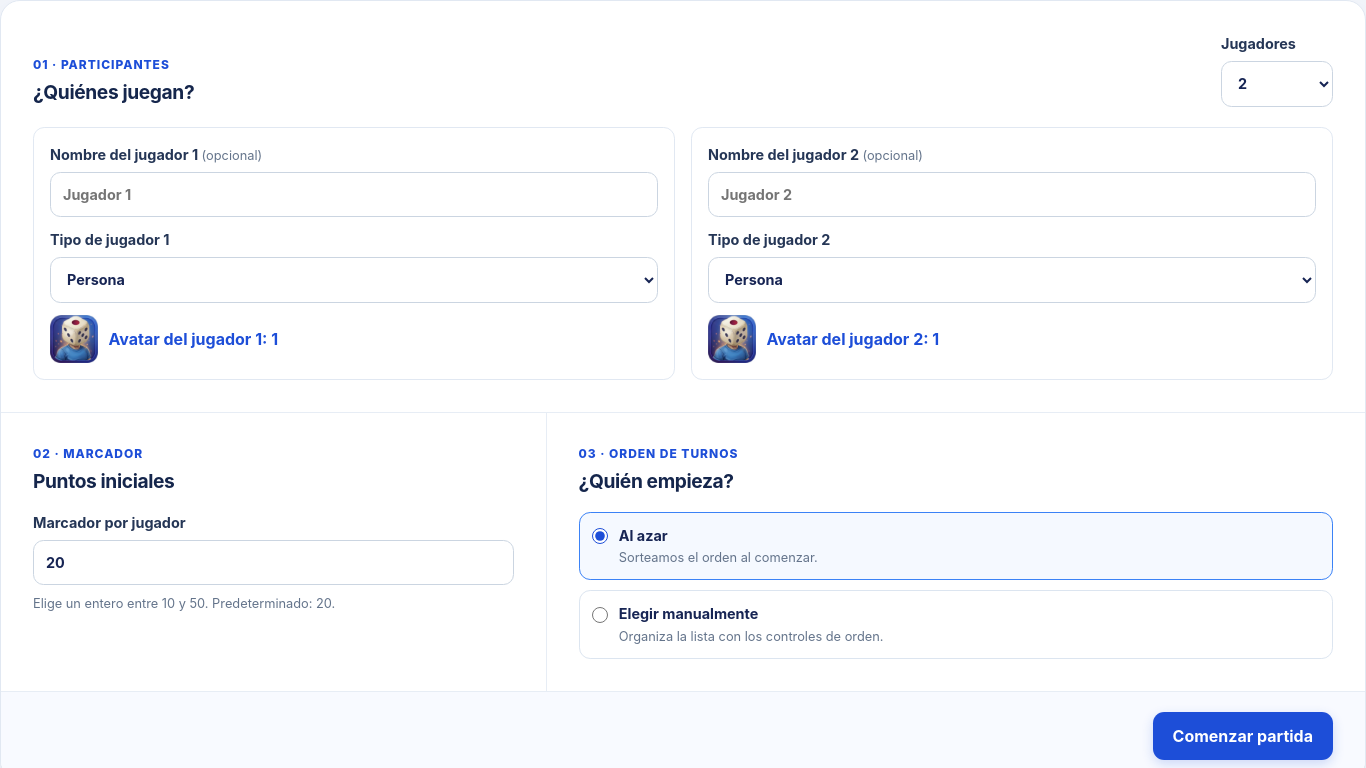
SetupForm › admite de dos a ocho participantes y explica que aún no se puede jugar
Select "8" in the dropdown named "Cantidad de jugadores" at (1277, 84), box [1221,61,1333,107]
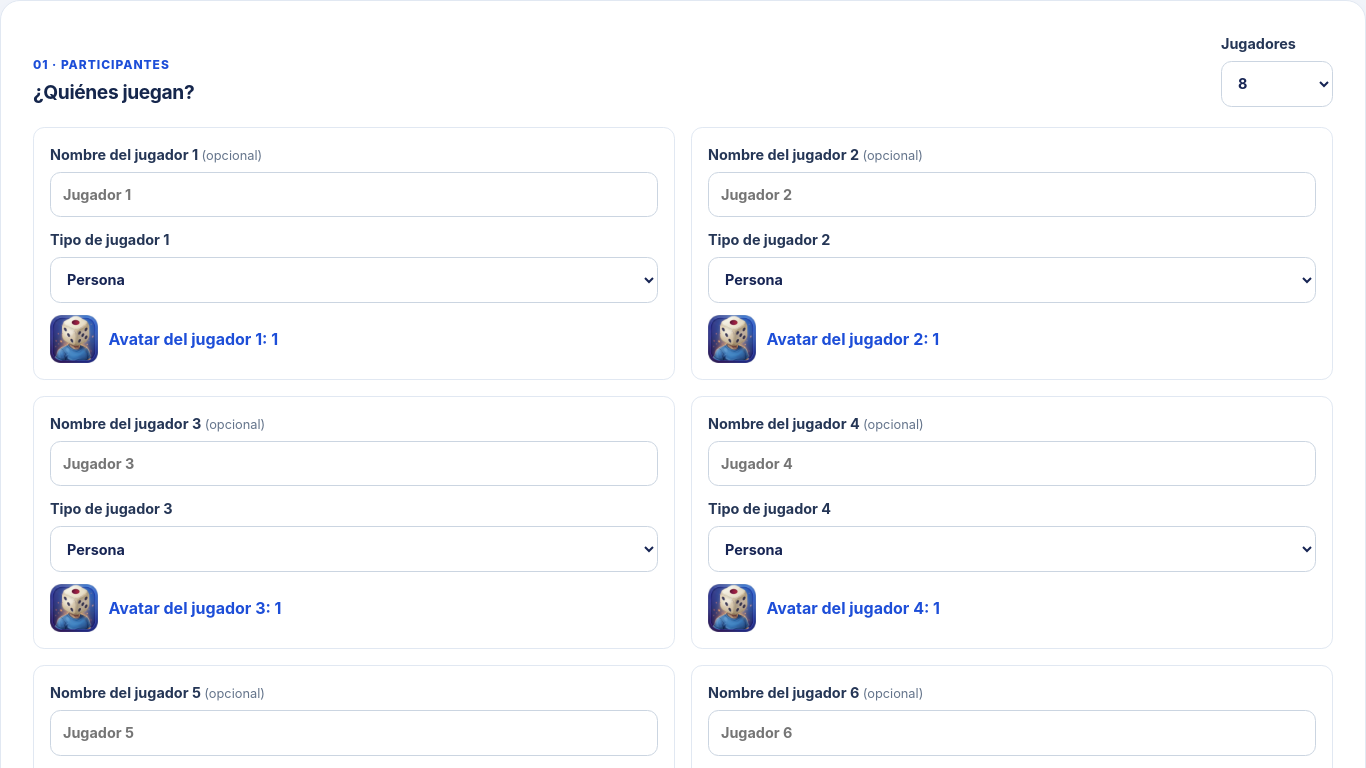
Select "2" in the dropdown named "Cantidad de jugadores" at (1277, 84), box [1221,61,1333,107]
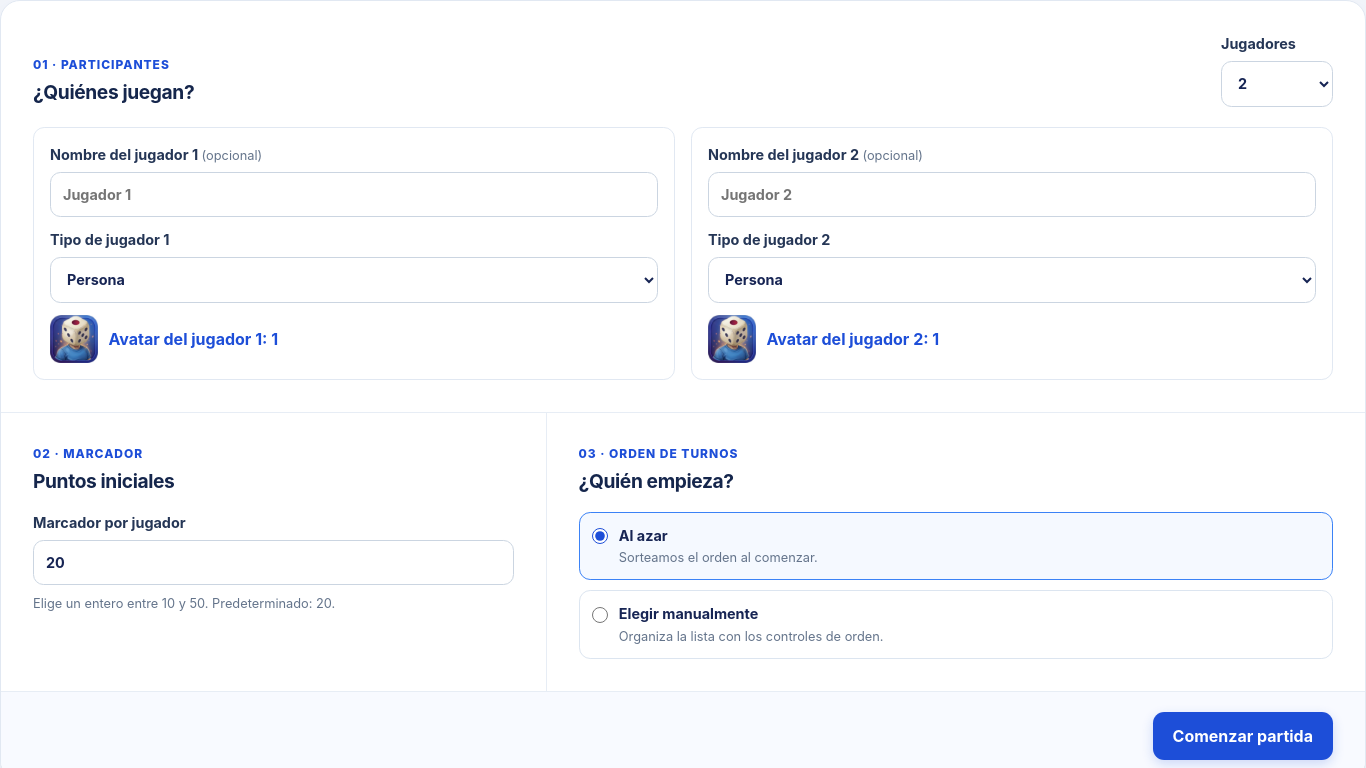
Check: the number of fields is 2, box [50,172,658,217]; [708,172,1316,217]
Click the button "Comenzar partida".
click(1243, 736)  # box [1153,712,1333,760]
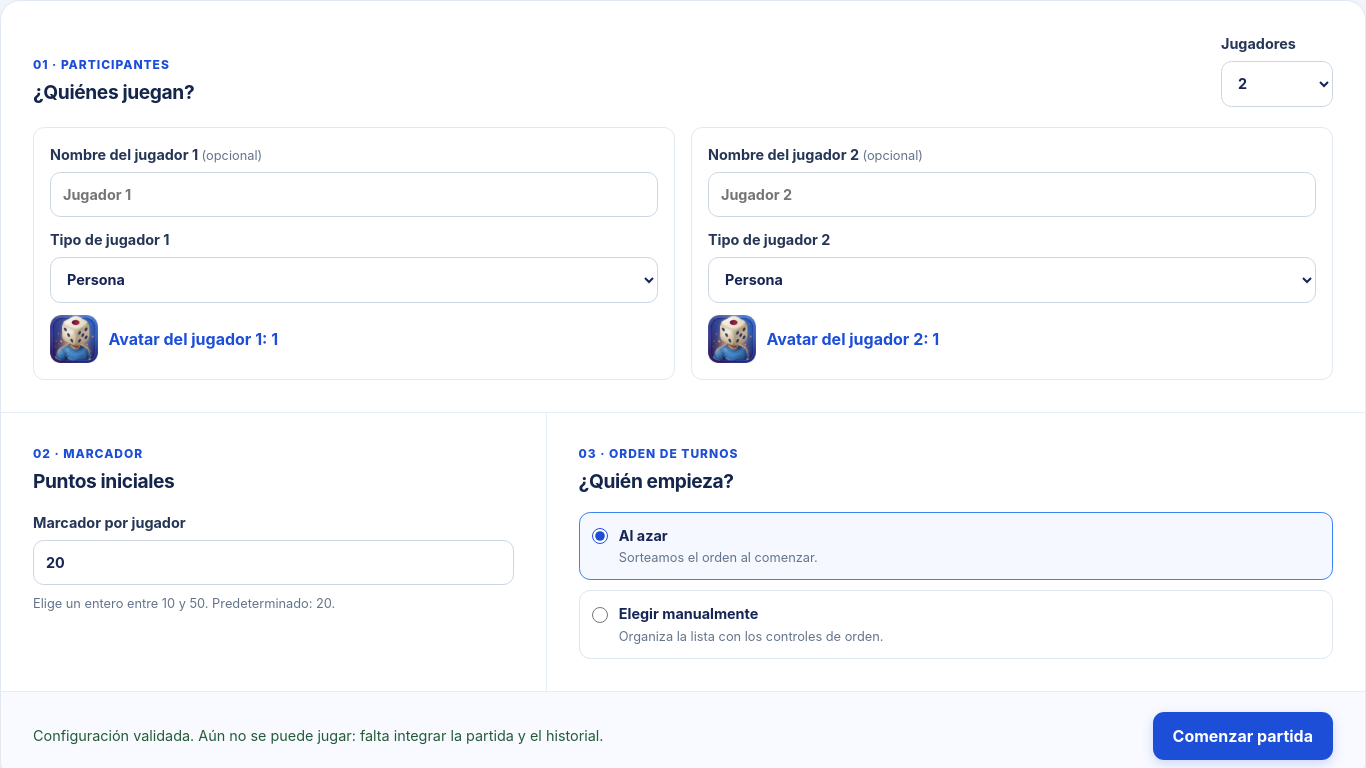
Check: the message shows "Aún no se puede jugar: falta integrar la partida y el historial.", box [33,727,603,744]
